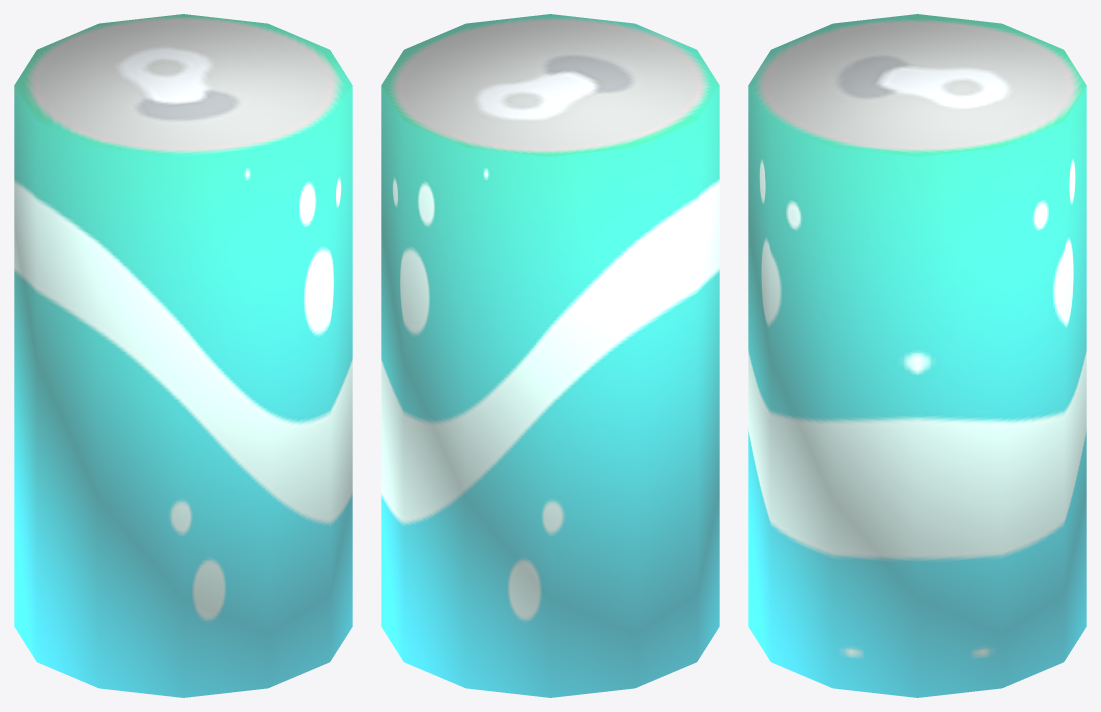
File: blue_soda.glb
3 views of the same model, side by side, from view 1: azimuth 30°, elevation 25°; view 2: azimuth 150°, elevation 25°; view 3: azimuth 270°, elevation 25° (orthographic).
Parts seen in each view (by area): view 1: Blue_Soda; view 2: Blue_Soda; view 3: Blue_Soda.
Part boxes in pixels (<box>): Blue_Soda: <box>14,14,352,697</box>; Blue_Soda: <box>381,14,719,697</box>; Blue_Soda: <box>748,14,1086,697</box>.
Bounding box in the file's own units: 0.3784 × 0.6671 × 0.3784.
Materials: 1 (1 with a texture image).
